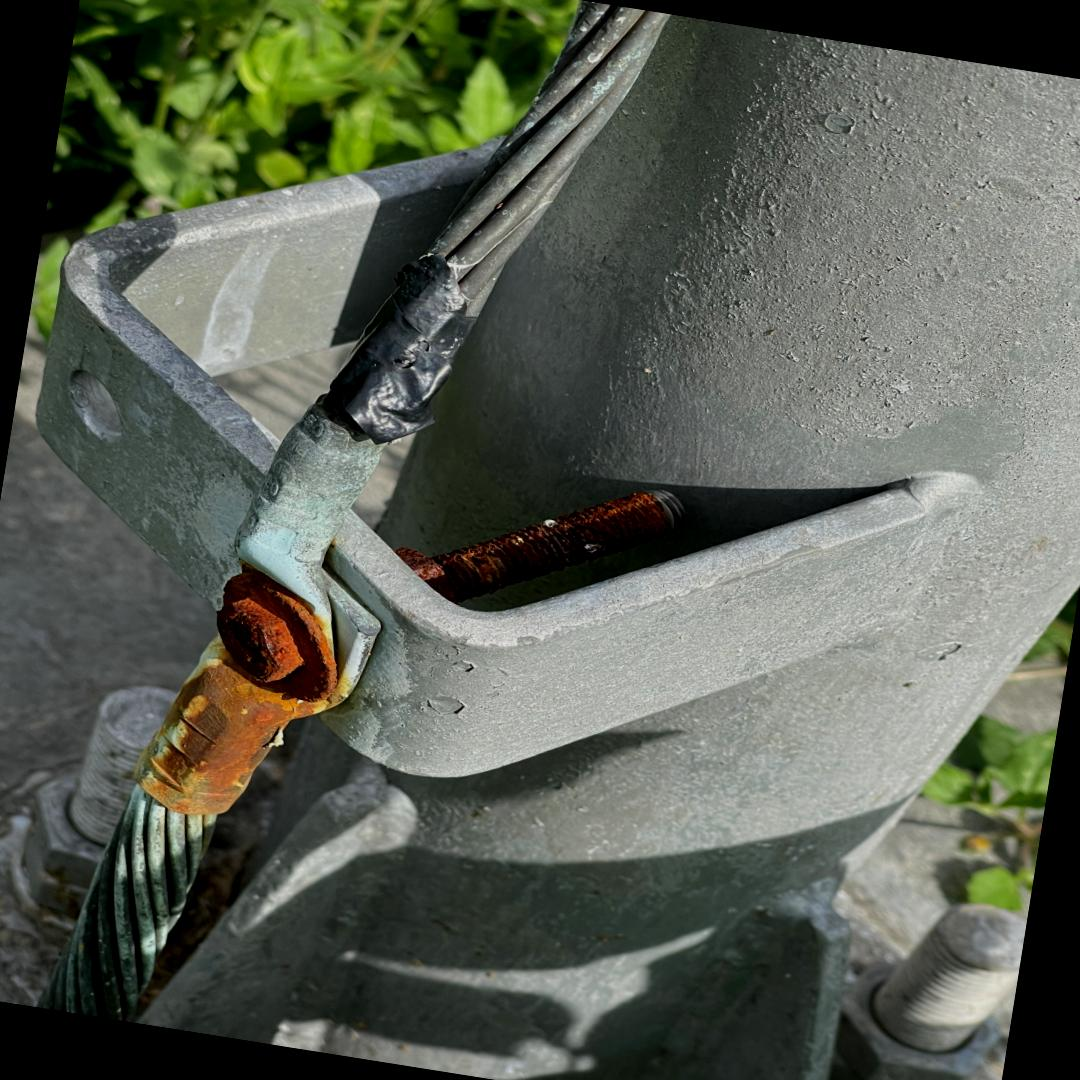Metal: (32, 0, 1080, 1080)
Metal corroido: (133, 572, 340, 816), (403, 490, 678, 604)
